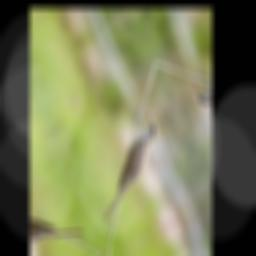Cuckoo: (76, 111, 178, 223)
